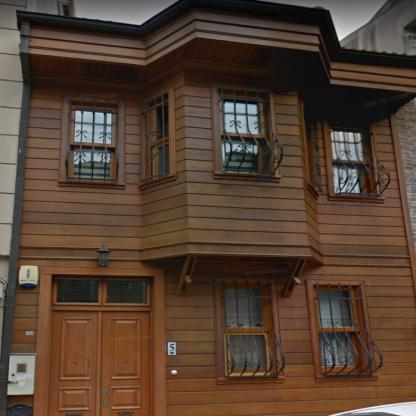door: (52, 312, 149, 415)
window: (224, 288, 268, 372), (316, 288, 358, 366), (222, 99, 262, 171), (71, 110, 111, 179), (330, 129, 366, 194), (58, 278, 148, 303), (147, 103, 168, 180)
